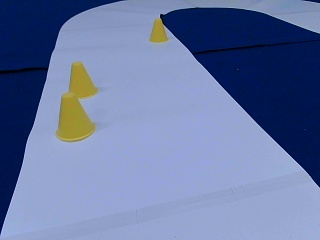cone: (56, 93, 95, 140), (66, 62, 98, 97), (149, 18, 167, 42)
